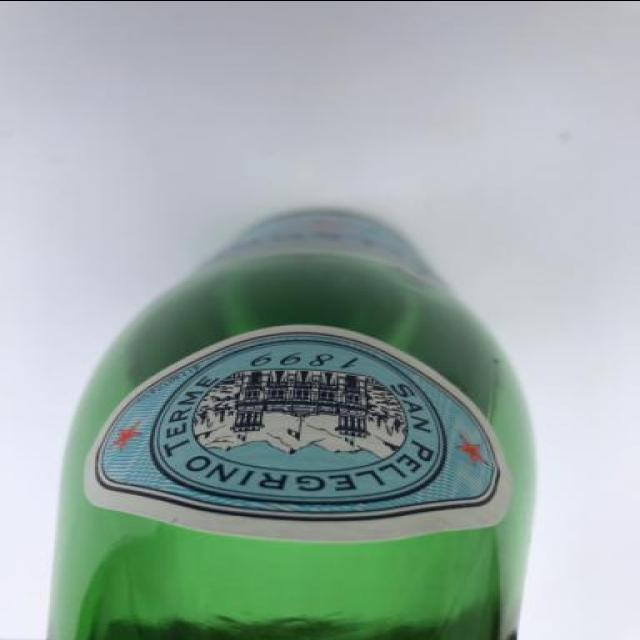litter: (39, 206, 544, 640)
